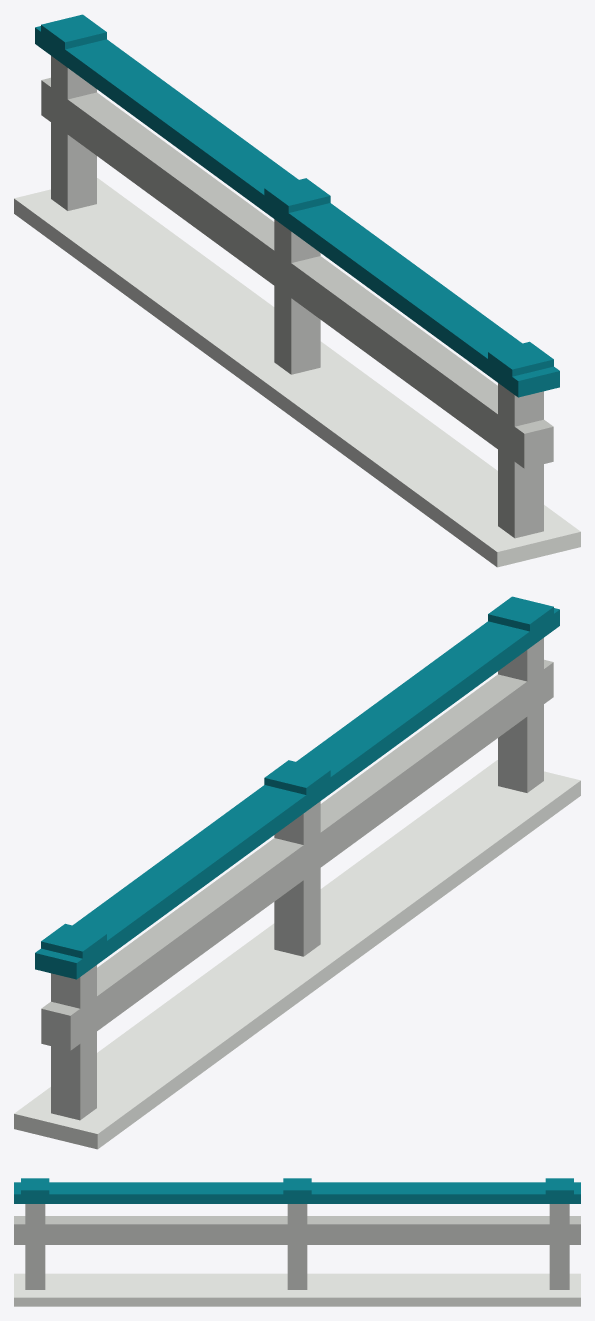
File: barrier_4m.glb
The picture shows the model from 3 angles, top to bottom: view 1: azimuth 30°, elevation 25°; view 2: azimuth 150°, elevation 25°; view 3: azimuth 270°, elevation 25°; orthographic projection. The views are drawn at different scales.
Parts seen in each view (by area): view 1: barrier_4m; view 2: barrier_4m; view 3: barrier_4m.
Boxes of the visible parts, bbox=[...] form: barrier_4m: bbox=[14, 14, 580, 567]; barrier_4m: bbox=[14, 596, 580, 1149]; barrier_4m: bbox=[14, 1178, 580, 1306].
Size of the model in its own units: 0.4 by 0.86 by 4.
